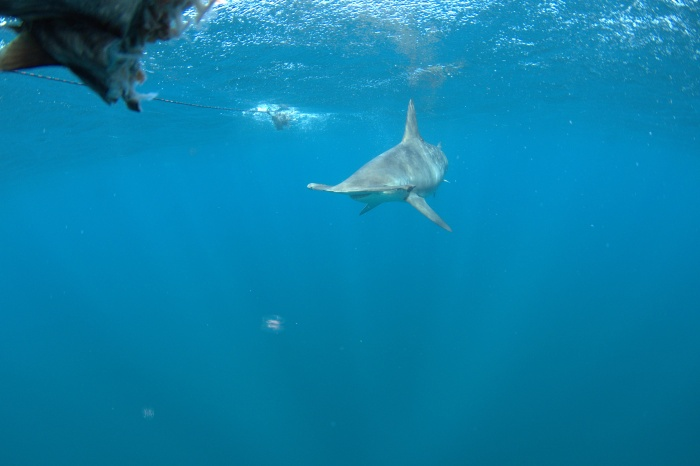Hammer: (295, 96, 477, 246)
